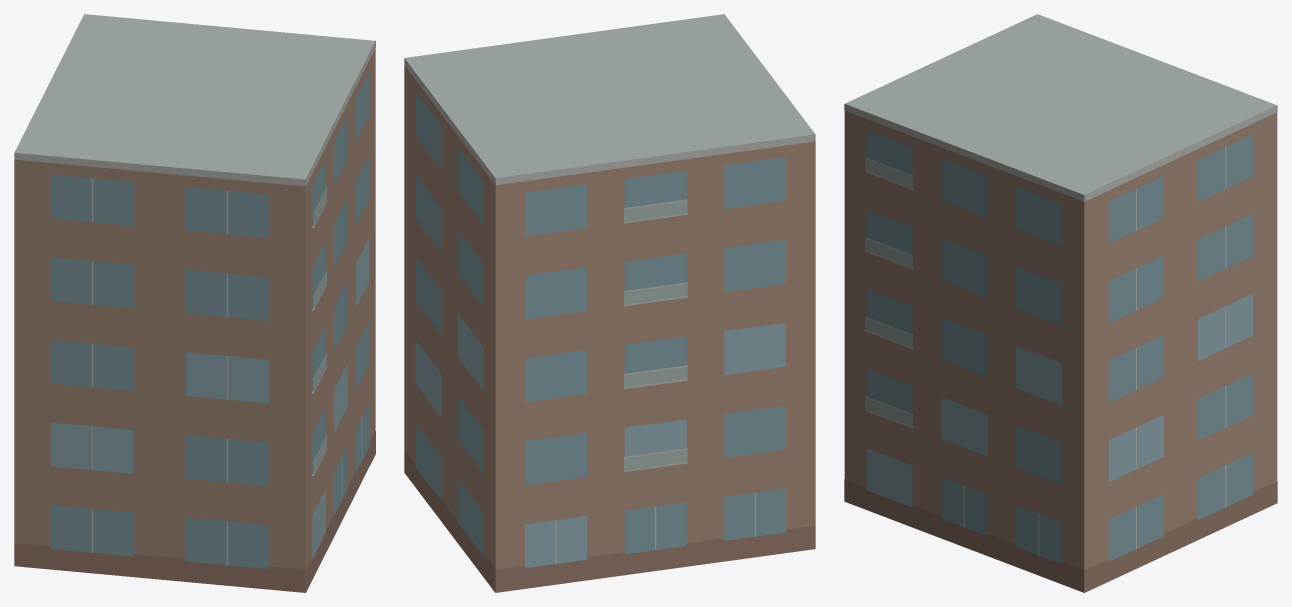
File: survey-upis-32692823.glb
3 views of the same model, side by side, from view 1: azimuth 30°, elevation 25°; view 2: azimuth 150°, elevation 25°; view 3: azimuth 270°, elevation 25° (orthographic). The views are drawn at different scales.
Parts seen in each view (by area): view 1: survey-upis-32692823.tmp; view 2: survey-upis-32692823.tmp; view 3: survey-upis-32692823.tmp.
Boxes of the visible parts, x1,y1,x2,y2 form: survey-upis-32692823.tmp: (14, 14, 375, 592); survey-upis-32692823.tmp: (404, 14, 815, 592); survey-upis-32692823.tmp: (844, 14, 1277, 592).
Bounding box in the file's own units: 14.07 × 14.4 × 14.21.
